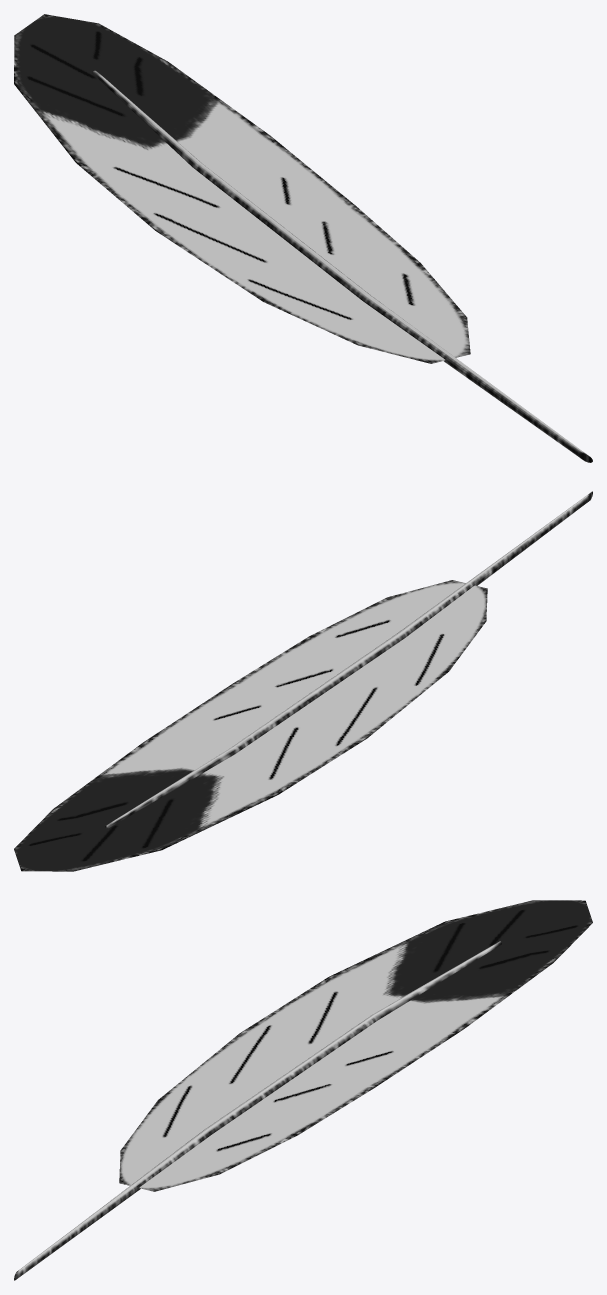
The model's file is feather.obj.
3 renders of one model, top to bottom at view 1: azimuth 30°, elevation 25°; view 2: azimuth 150°, elevation 25°; view 3: azimuth 330°, elevation 25°, orthographic. The views are drawn at different scales.
Visible parts, largest first — view 1: feather; view 2: feather; view 3: feather.
Part boxes in pixels (x1,y1,x2,y2): feather: (14, 14, 592, 462); feather: (14, 491, 592, 871); feather: (14, 900, 592, 1280).
Size of the model in its own units: 0.2704 by 0.0154 by 1.52.
